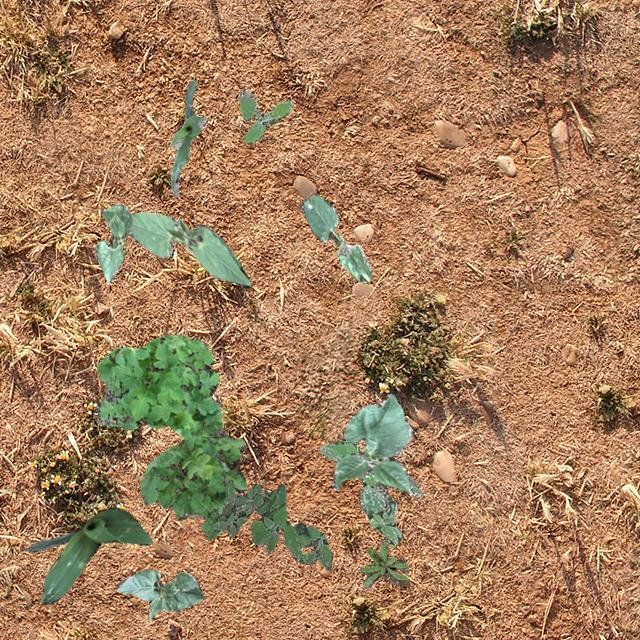crop: (25, 506, 152, 604), (128, 212, 250, 286), (330, 392, 412, 492), (298, 195, 371, 282), (114, 568, 204, 618), (168, 78, 204, 195), (94, 204, 132, 282)
weed: (95, 334, 232, 441), (318, 439, 422, 546), (140, 434, 246, 538), (212, 478, 332, 568), (238, 90, 292, 142), (358, 540, 408, 588)
